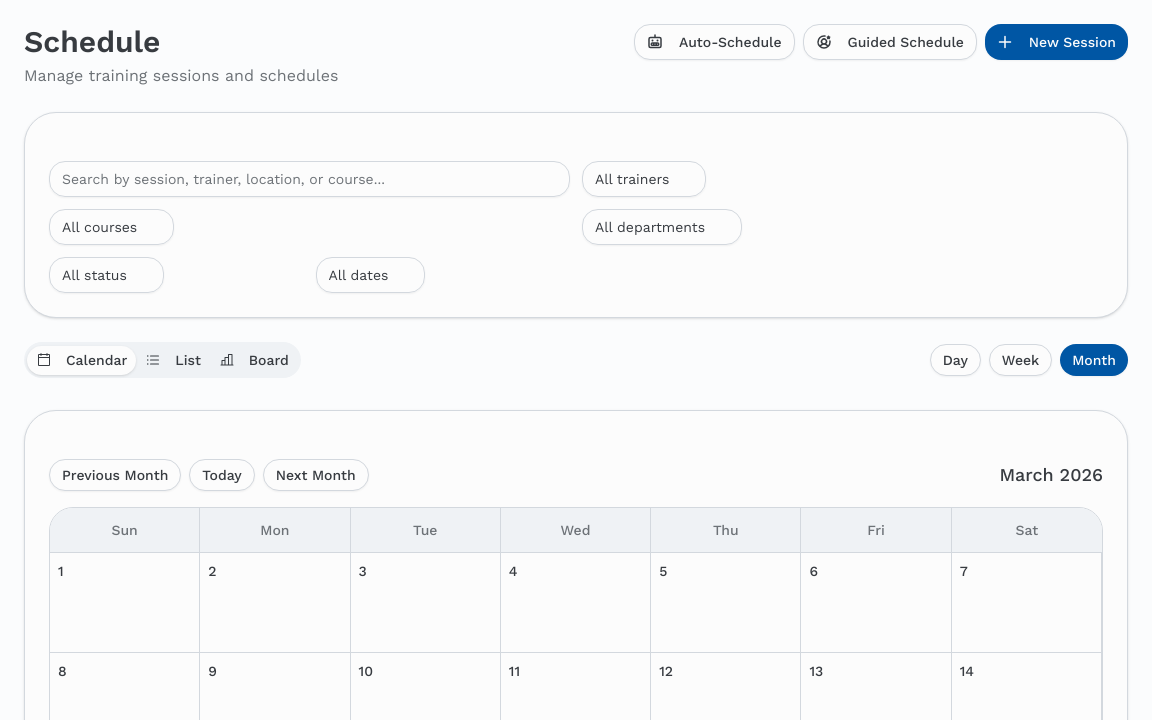
Test case: Schedule › supports calendar period switching controls
What coordinates should you click on to do the following:
click the button "Day"
I would click on:
 (955, 360)
Its box is [930,344,981,376].
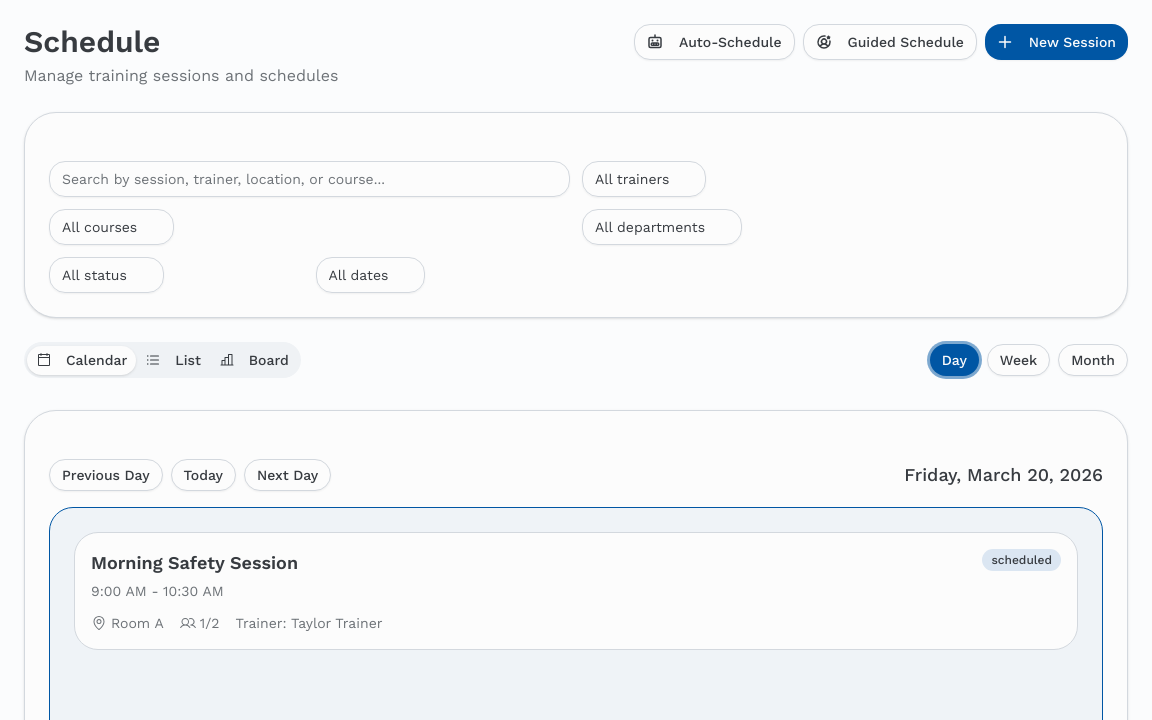
Expected: the button "Previous Day" is shown, [49,459,163,491]
What coordinates should you click on to do the following:
click the button "Week"
I would click on:
 (1018, 360)
Its box is [987,344,1050,376].
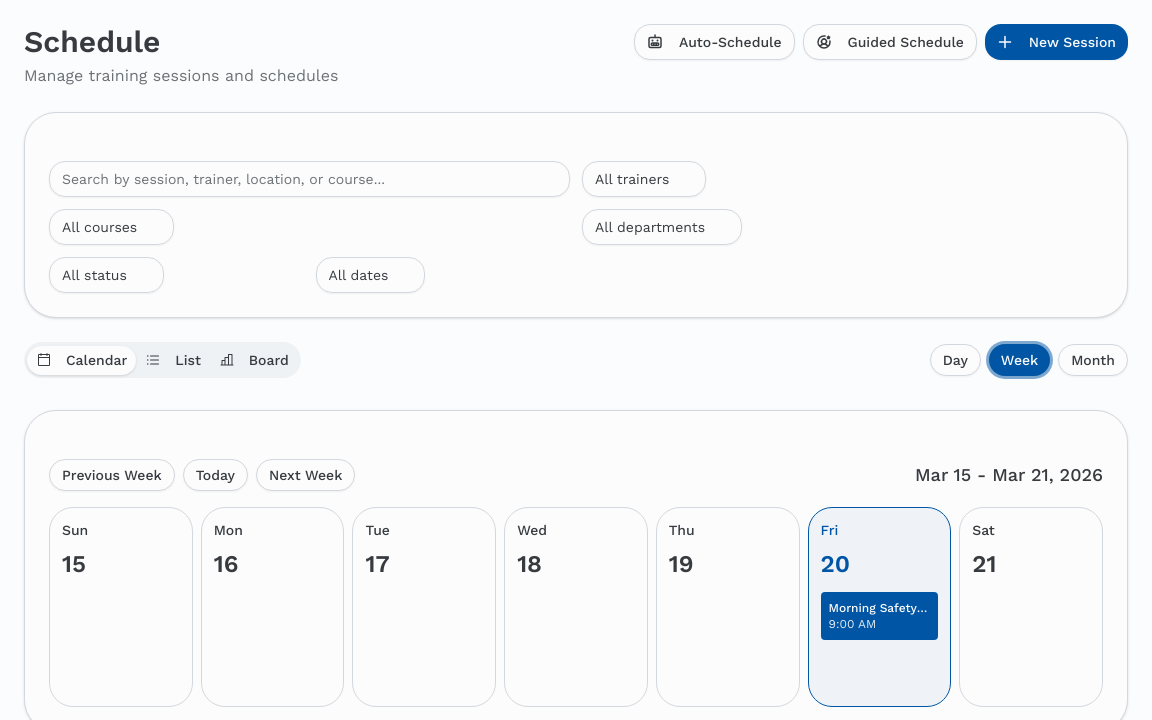
Expected: the button "Previous Week" is shown, [49,459,175,491]
What coordinates should you click on to do the following:
click the button "Month"
I would click on:
 (1093, 360)
Its box is [1058,344,1128,376].
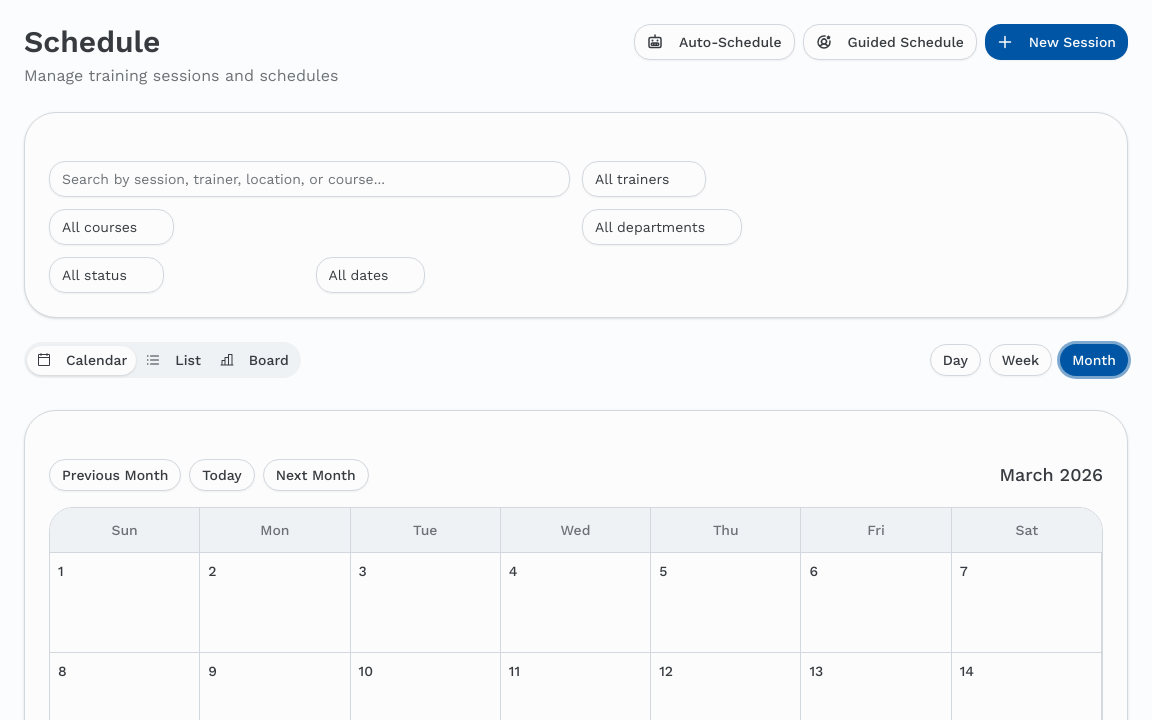
Expected: the button "Previous Month" is shown, [49,459,181,491]
